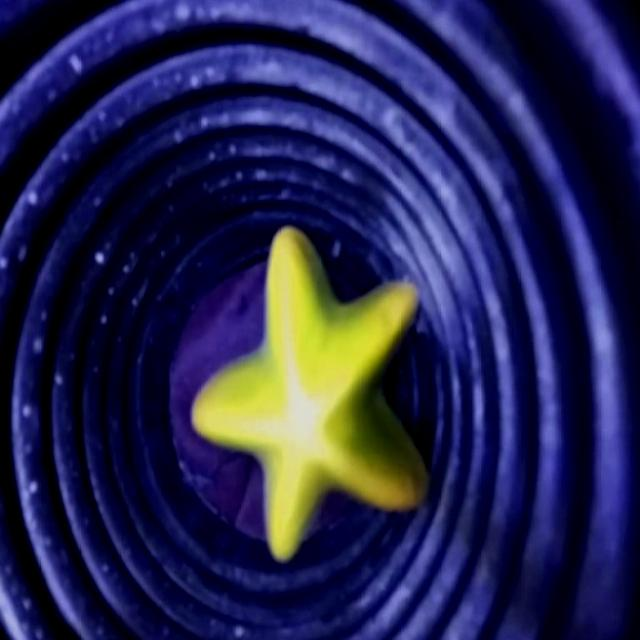block: (172, 262, 260, 350), (186, 446, 258, 546)
obstacles: (191, 226, 430, 558)
